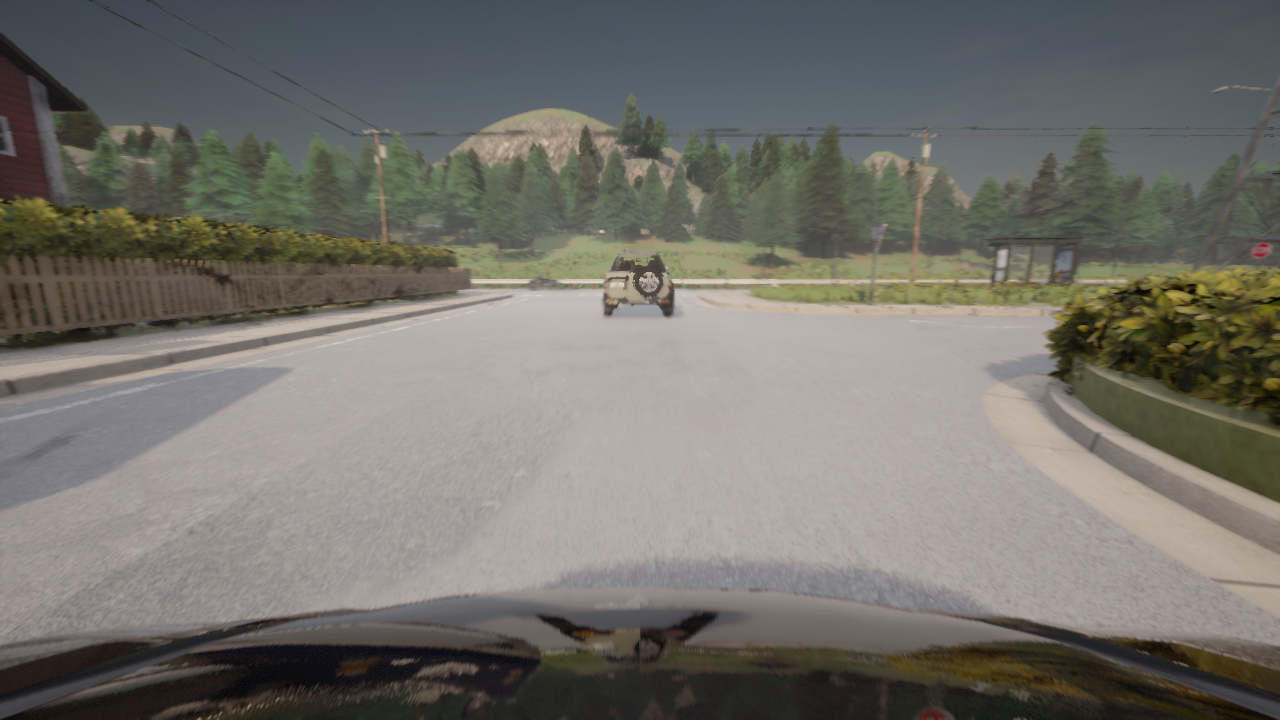cyclist: (0, 588, 1279, 719), (602, 250, 673, 316), (528, 274, 560, 289)
pedestrian: (830, 259, 839, 287)
